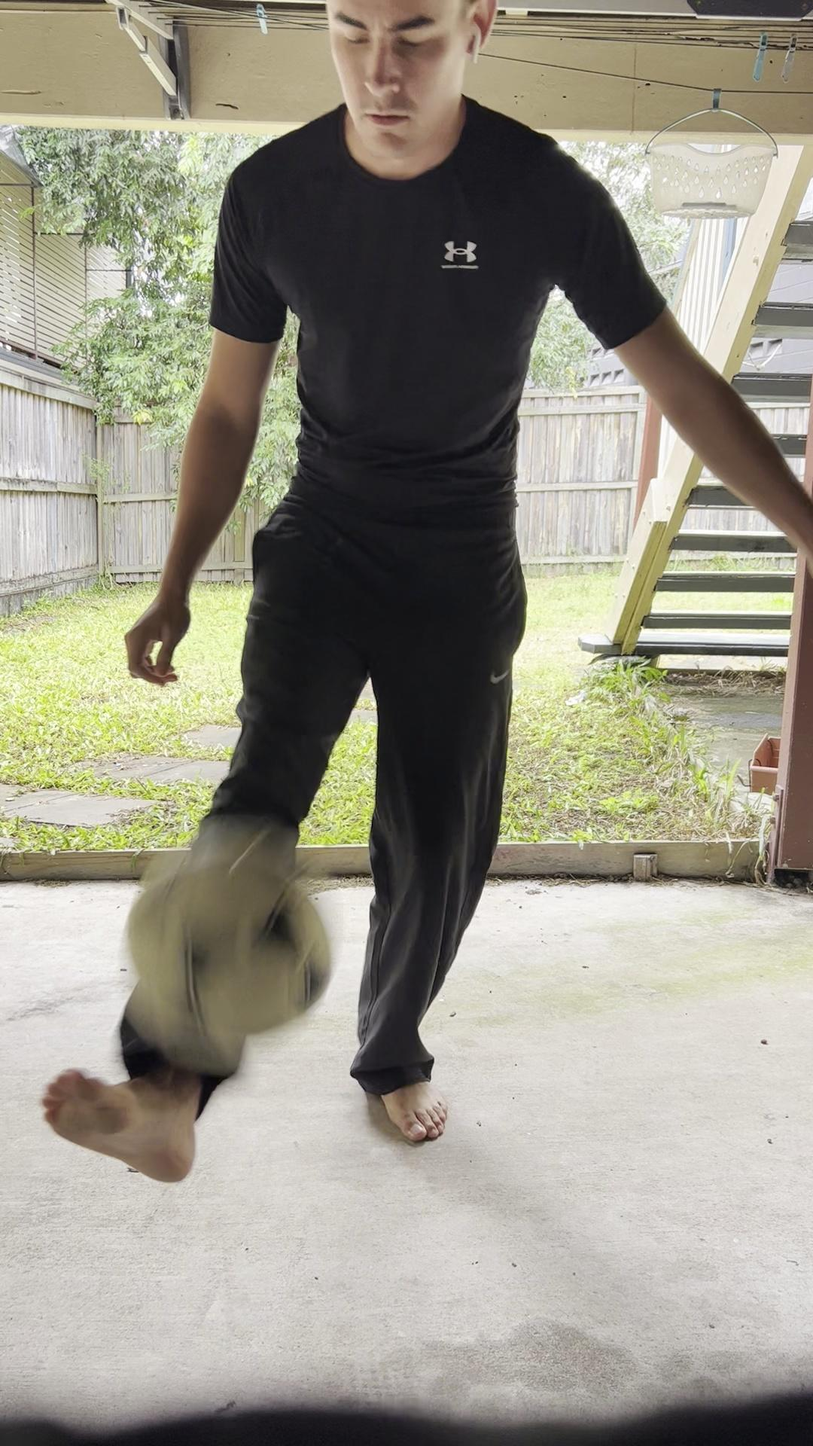ball: (124, 844, 331, 1039)
foot: (46, 1059, 202, 1182), (382, 1079, 451, 1144)
person: (43, 0, 813, 1186)
